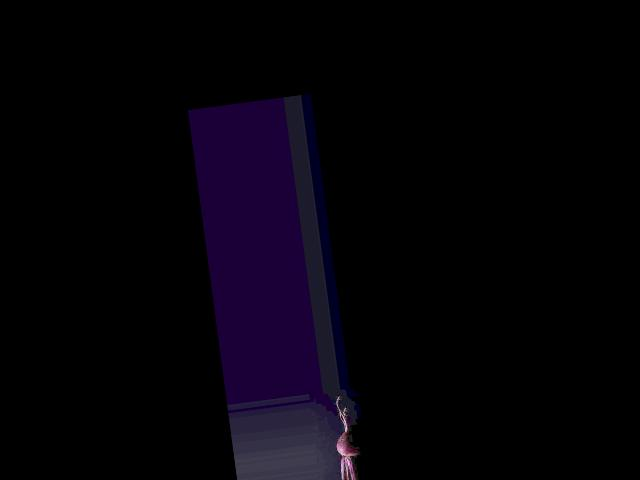beet: (328, 394, 363, 480)
